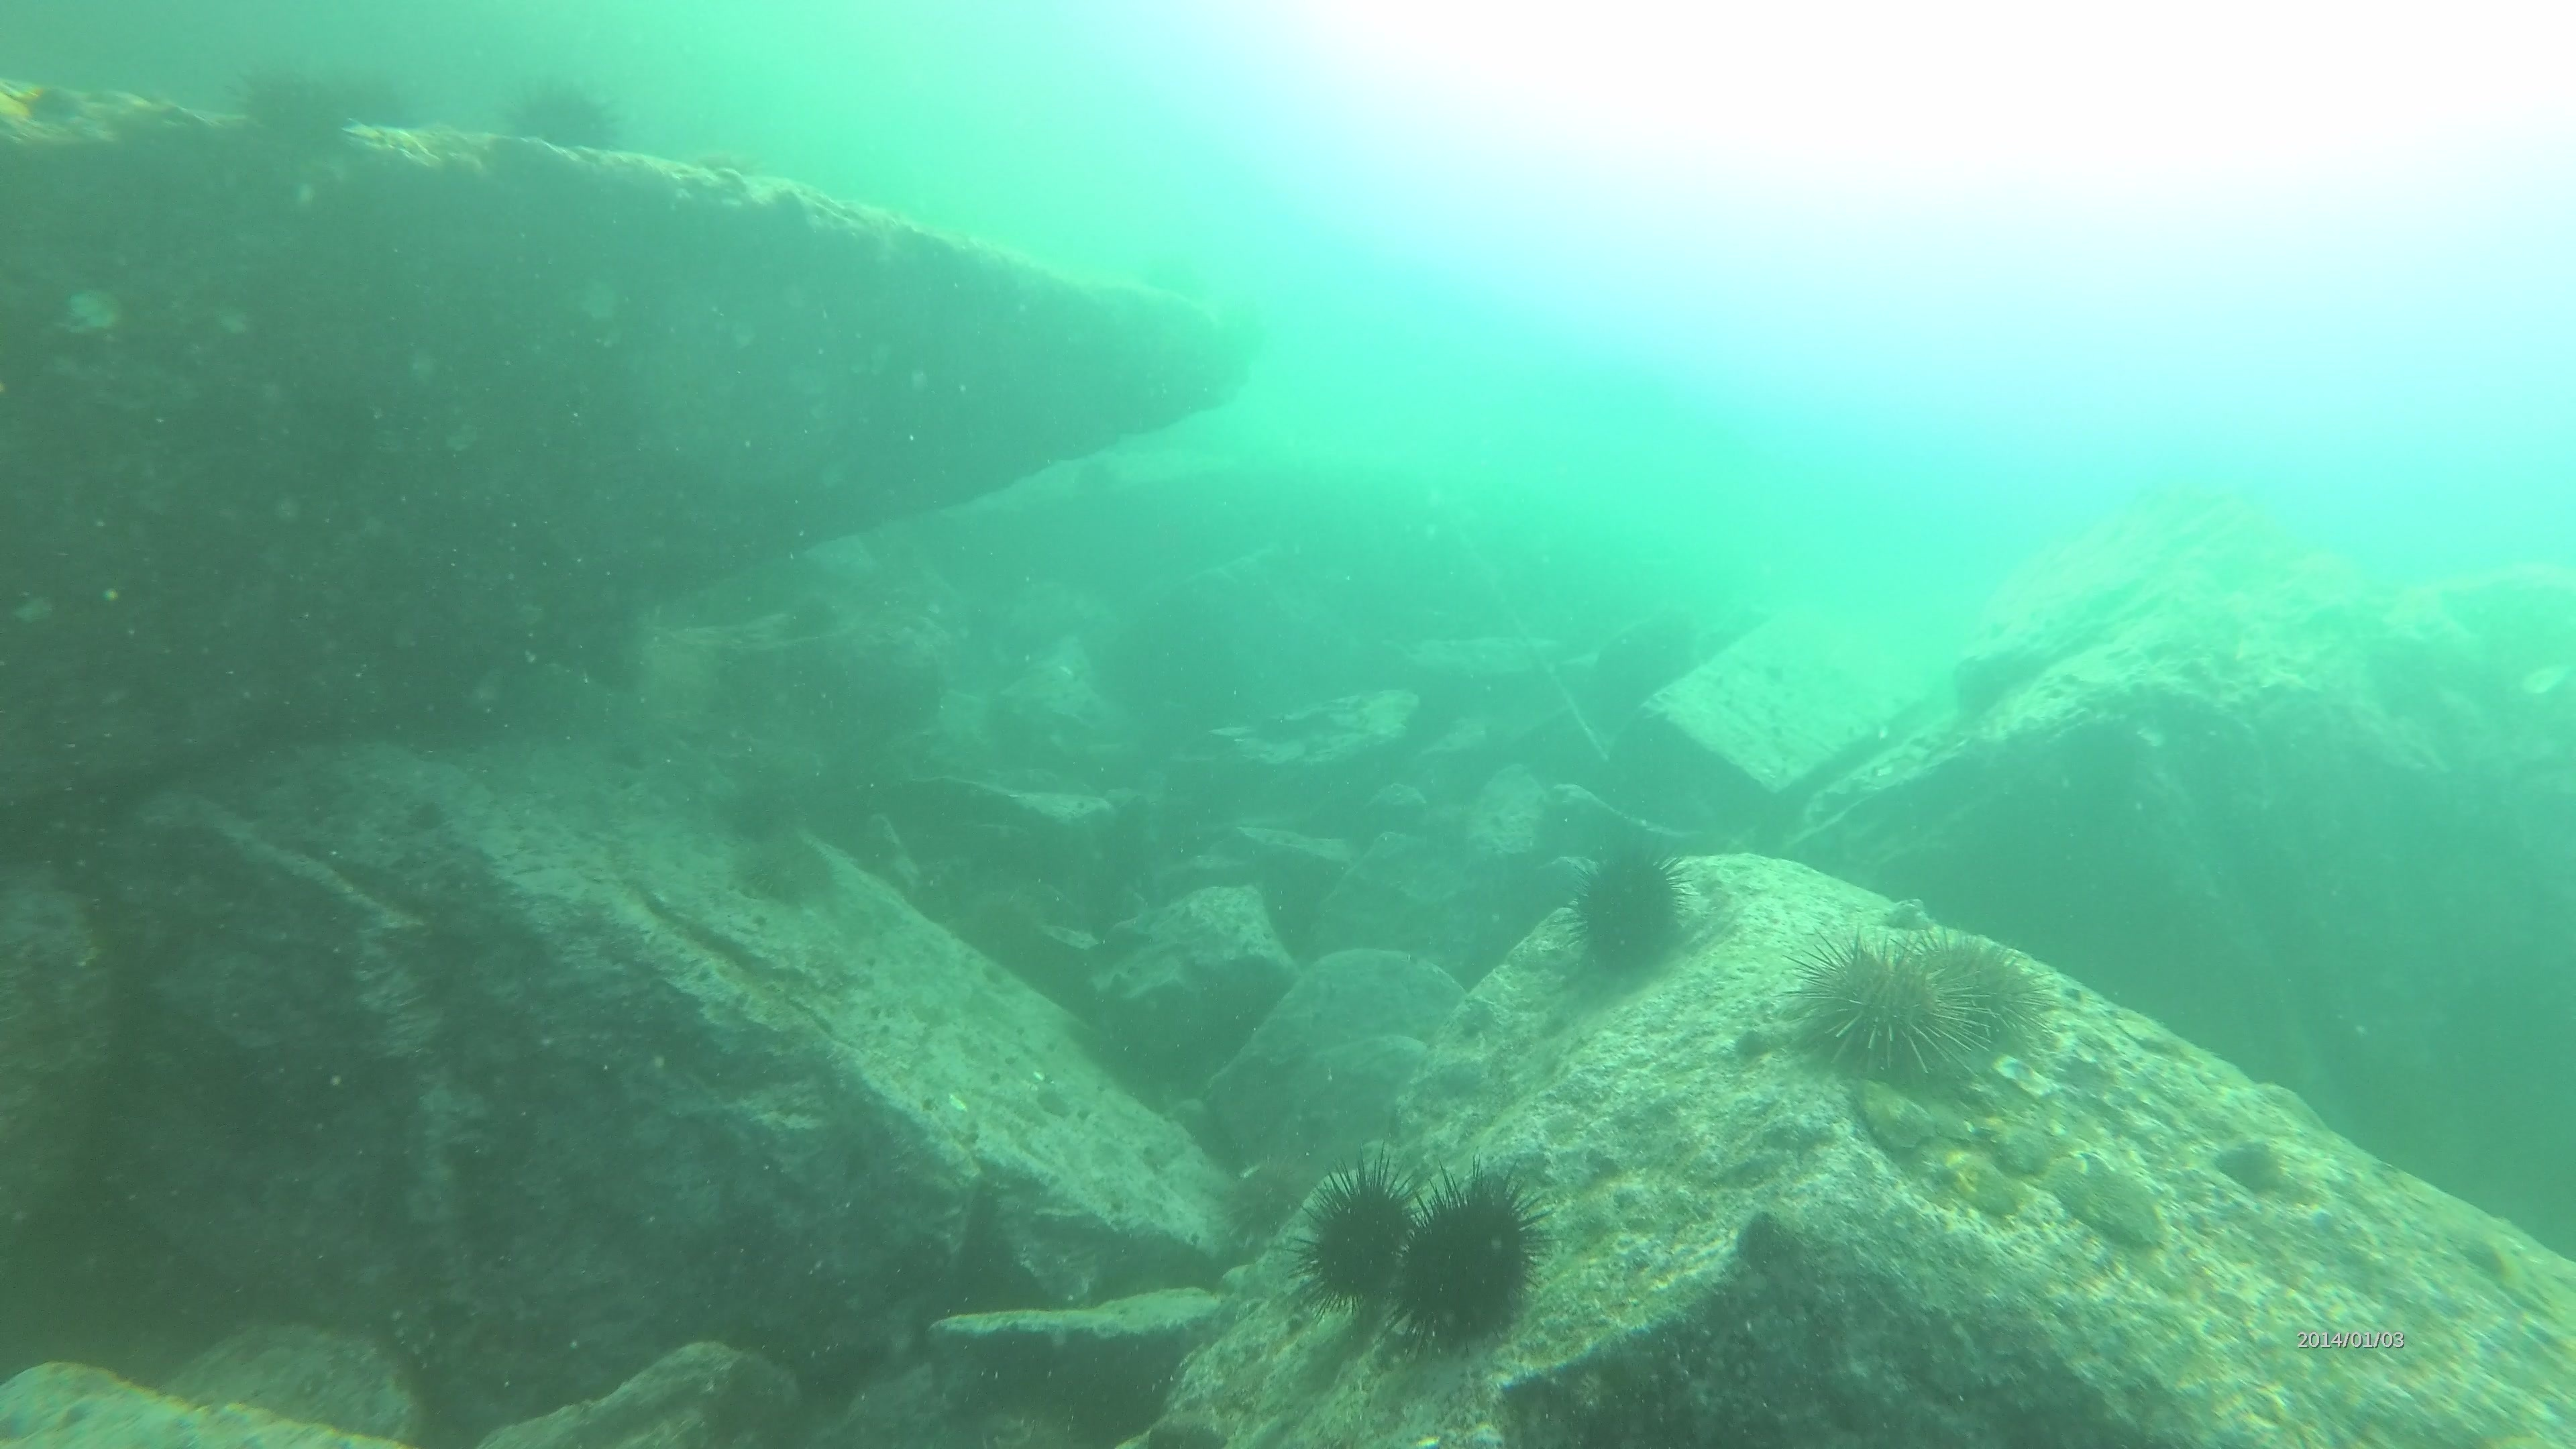echinus: (1378, 1164, 1553, 1357), (1785, 924, 1978, 1093), (1891, 922, 2059, 1090), (1557, 835, 1698, 987), (1288, 1161, 1428, 1315), (223, 55, 350, 173), (494, 73, 630, 173), (720, 819, 842, 913), (324, 74, 430, 138)
